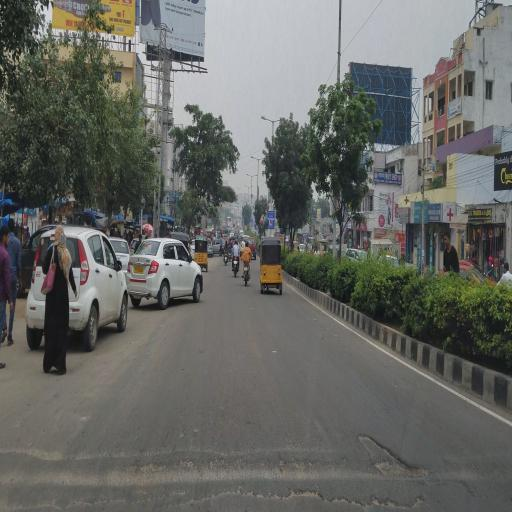street_light_0: (255, 104, 271, 130), (248, 146, 258, 166), (242, 164, 254, 180), (251, 170, 262, 184)
